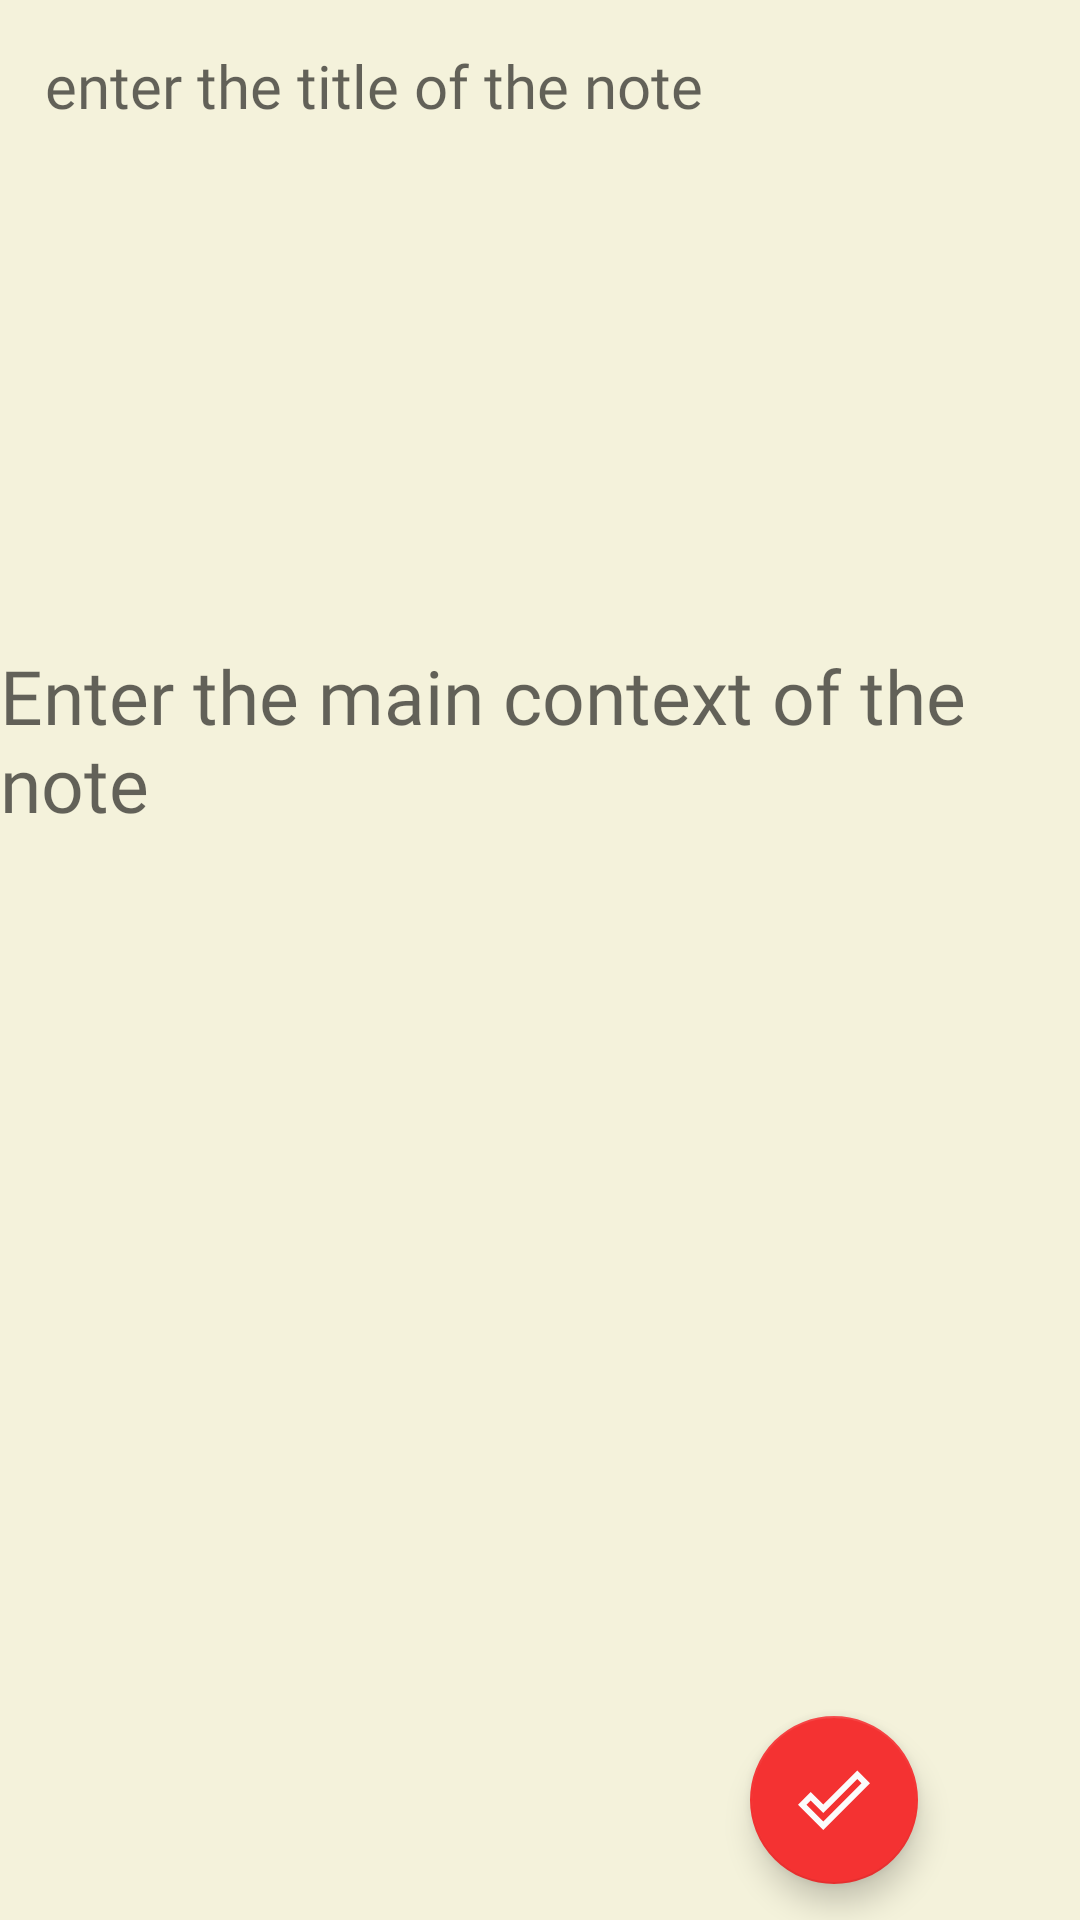

Point at icon controls on the screen. Image size 1080*1920, points as point (x, y).
done: point (834, 1800)
